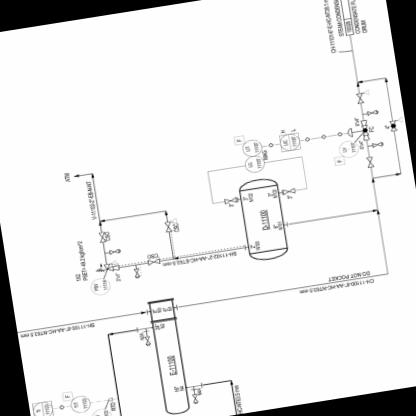LMI: (243, 152, 266, 174), (69, 393, 92, 414), (240, 137, 262, 156)
TAG: (278, 130, 301, 152), (30, 398, 55, 415)
